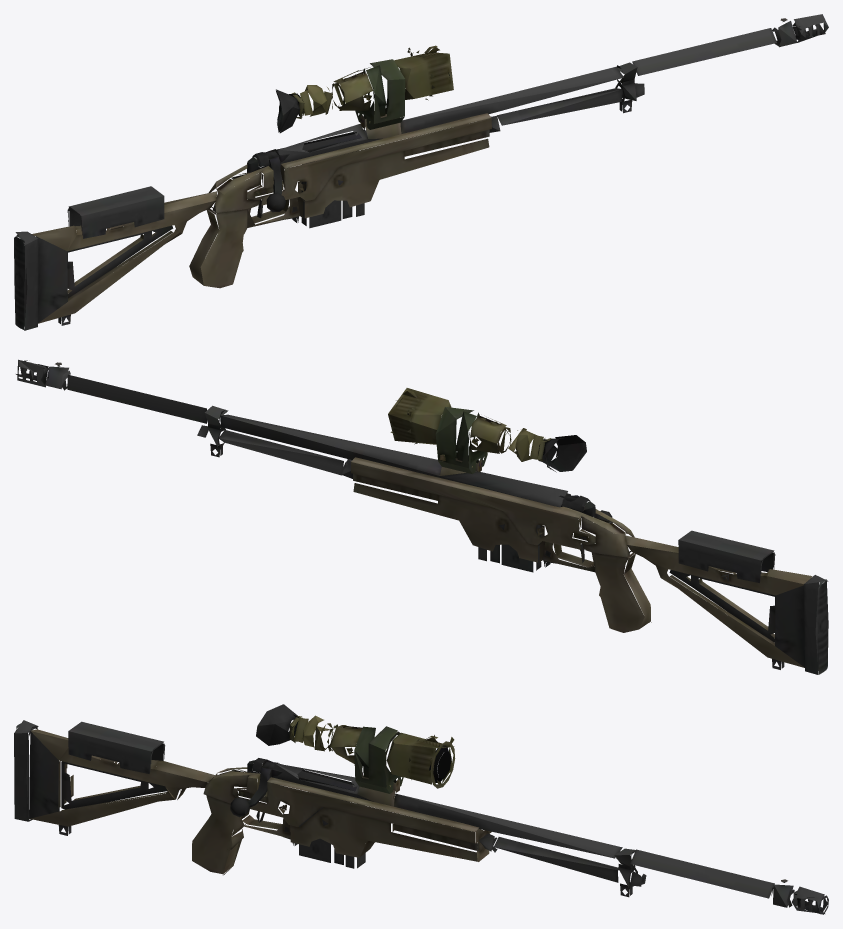
The model's file is sniper_low.glb.
3 views of the same model, one above another, from view 1: azimuth 30°, elevation 25°; view 2: azimuth 150°, elevation 25°; view 3: azimuth 330°, elevation 25° (orthographic).
Parts seen in each view (by area): view 1: body, bolt, mag; view 2: body, mag, bolt; view 3: body, bolt, mag.
Boxes of the visible parts, x1,y1,x2,y2 form: body: [14, 14, 828, 330]; bolt: [247, 130, 367, 212]; mag: [301, 150, 364, 228]; body: [16, 359, 828, 674]; mag: [478, 525, 541, 572]; bolt: [559, 495, 612, 528]; body: [14, 704, 828, 914]; bolt: [230, 758, 357, 817]; mag: [299, 792, 365, 868].
Bounding box in the file's own units: 1.15 × 0.2575 × 0.0936.
1 material, 1 textured.
